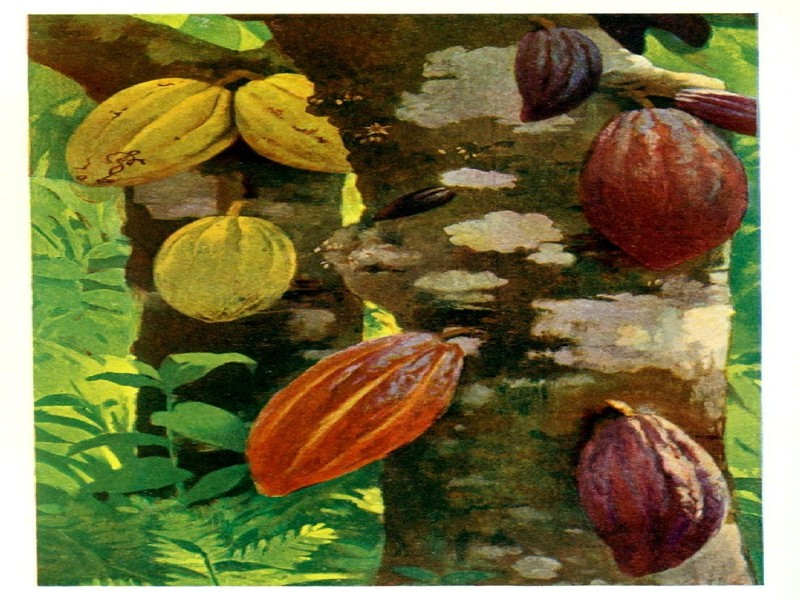Cacaopod: (249, 332, 462, 499), (580, 108, 747, 270), (577, 403, 732, 573), (65, 79, 235, 184), (150, 212, 296, 322)
